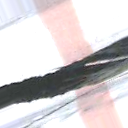crackTip: (2, 34, 128, 110)
